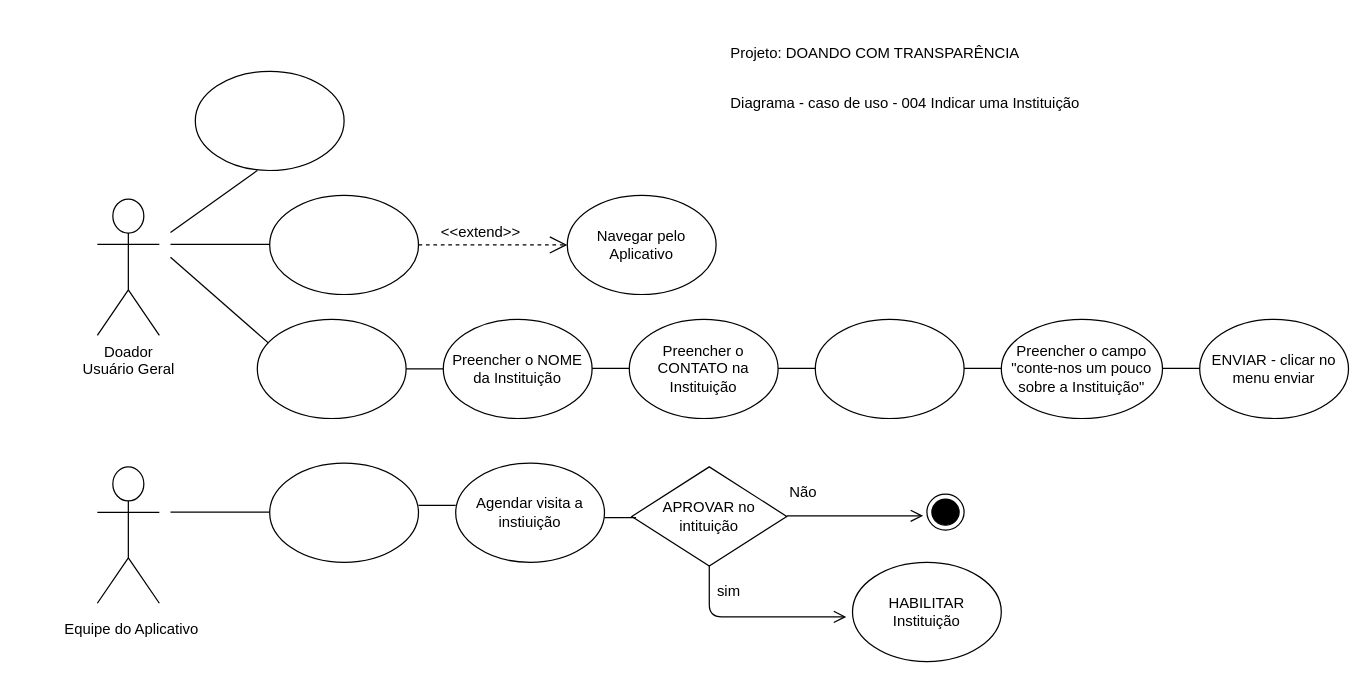
The diagram is 1370 pixels wide and 683 high, and some of its shapes have lost their labels. Here are the shapes that lost their labels. From the top down, the centre of each, then its label:
At [269,120]: "Acessar o Programa".
At [343,244]: "Clicar no menu ENTRAR".
At [331,368]: "Clicar no menu INDICAR uma Instituição".
At [889,368]: "Preencher a PAGINA WEB da Instituição".
At [343,512]: "Receber a Indicação de instituição".
